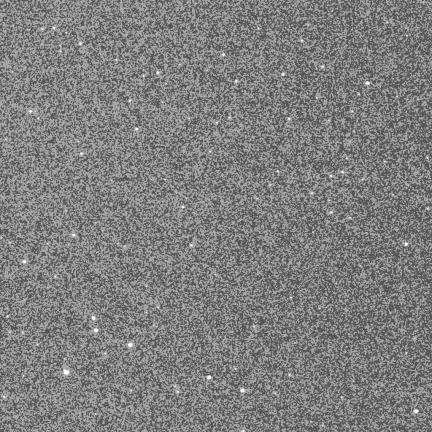blob: (128, 343, 133, 348), (64, 370, 69, 375), (414, 409, 418, 414), (366, 81, 370, 86), (29, 110, 33, 114), (405, 243, 409, 247), (80, 152, 84, 156), (157, 71, 161, 75), (207, 376, 211, 380), (190, 244, 194, 247), (92, 316, 95, 320), (322, 65, 325, 69), (235, 80, 238, 84), (330, 211, 334, 214), (79, 43, 83, 46), (135, 128, 139, 131), (222, 54, 226, 57), (241, 389, 245, 392), (282, 73, 285, 77), (341, 171, 345, 174), (358, 93, 361, 96), (288, 117, 291, 120), (216, 122, 219, 125), (53, 27, 56, 30), (177, 391, 180, 394), (23, 260, 26, 263), (182, 206, 185, 209), (129, 100, 132, 103), (95, 329, 98, 332), (229, 117, 232, 120), (301, 40, 304, 43), (73, 234, 76, 237), (54, 276, 57, 279), (41, 28, 44, 31), (22, 332, 24, 334)
